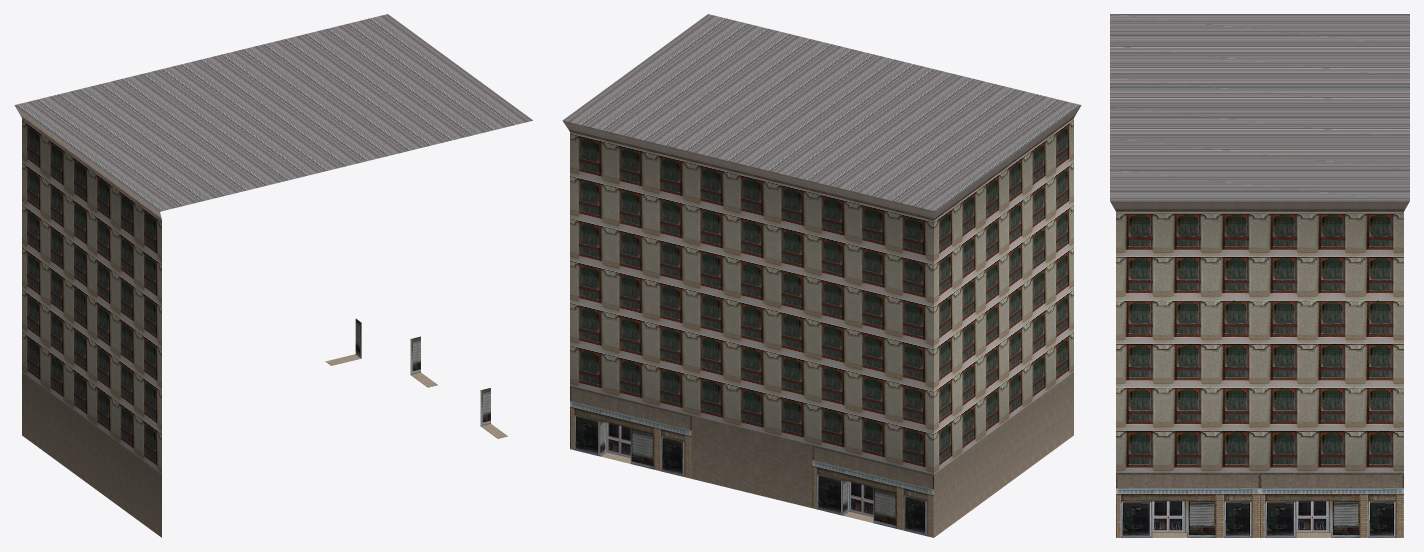
The model's file is M2Zone4_Building11.glb.
The picture shows the model from 3 angles, left to right: view 1: azimuth 30°, elevation 25°; view 2: azimuth 150°, elevation 25°; view 3: azimuth 270°, elevation 25°; orthographic projection. The views are drawn at different scales.
Parts seen in each view (by area): view 1: M2ZONE4_BUILDING11; view 2: M2ZONE4_BUILDING11; view 3: M2ZONE4_BUILDING11.
Part boxes in pixels (x1,y1,x2,y2): M2ZONE4_BUILDING11: (14,14,532,537); M2ZONE4_BUILDING11: (562,14,1081,537); M2ZONE4_BUILDING11: (1110,14,1409,537).
Size of the model in its own units: 24.64 by 20.76 by 16.64.
Materials: 4 (4 with a texture image).
